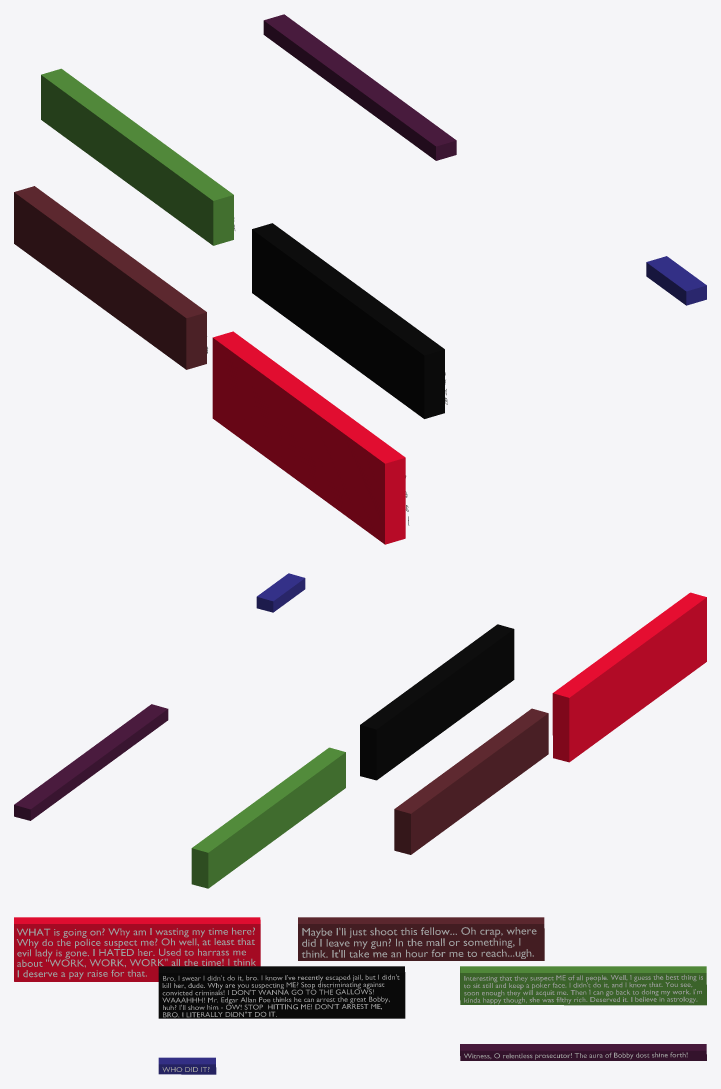
Rendered from Lvl 5 blocks.fbx.
3 views of the same model, one above another, from view 1: azimuth 30°, elevation 25°; view 2: azimuth 150°, elevation 25°; view 3: azimuth 270°, elevation 25° (orthographic). The views are drawn at different scales.
Parts seen in each view (by area): view 1: Cube, Cube.002, Cube.001, Cube.003, Cube.005, Cube.004; view 2: Cube, Cube.002, Cube.001, Cube.003, Cube.005, Cube.004; view 3: Cube, Cube.002, Cube.001, Cube.003, Cube.005, Text, Text.002, Text.003, Text.001, Cube.004, Text.005.
Part boxes in pixels (x1,y1,x2,y2): Cube: (212,331,405,544); Cube.002: (252,223,444,418); Cube.001: (14,186,206,369); Cube.003: (41,68,233,245); Cube.005: (263,14,456,160); Cube.004: (646,256,706,305); Cube: (552,592,706,762); Cube.002: (360,624,514,780); Cube.001: (394,708,548,854); Cube.003: (191,747,345,888); Cube.005: (14,704,168,820); Cube.004: (256,573,305,612); Cube: (14,917,260,981); Cube.002: (158,966,405,1018); Cube.001: (298,917,544,960); Cube.003: (460,966,706,1005); Cube.005: (460,1044,706,1060); Text: (17,927,255,979); Text.002: (162,974,399,1017); Text.003: (464,974,702,1004); Text.001: (302,927,536,958); Cube.004: (158,1057,216,1074); Text.005: (464,1052,687,1059).
Bounding box in the file's own units: 1334 × 246 × 2636.
